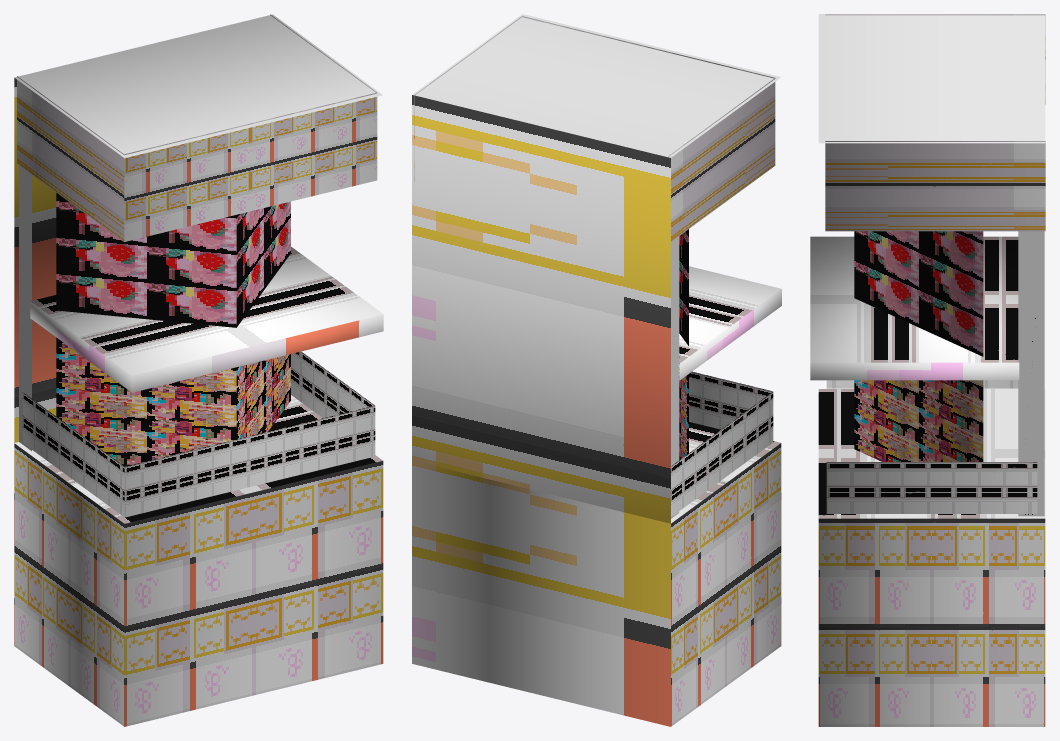
3 views of the same model, side by side, from view 1: azimuth 30°, elevation 25°; view 2: azimuth 150°, elevation 25°; view 3: azimuth 270°, elevation 25° (orthographic). The views are drawn at different scales.
Visible parts, largest first — view 1: 3811kg_sh1_34; view 2: 3811kg_sh1_34; view 3: 3811kg_sh1_34.
Boxes of the visible parts, box(x1,y1,x2,y2) form: 3811kg_sh1_34: box(14, 14, 383, 726); 3811kg_sh1_34: box(412, 14, 781, 726); 3811kg_sh1_34: box(810, 14, 1045, 726).
Size of the model in its own units: 0.9502 by 2 by 0.729.
Materials: 4 (4 with a texture image).
